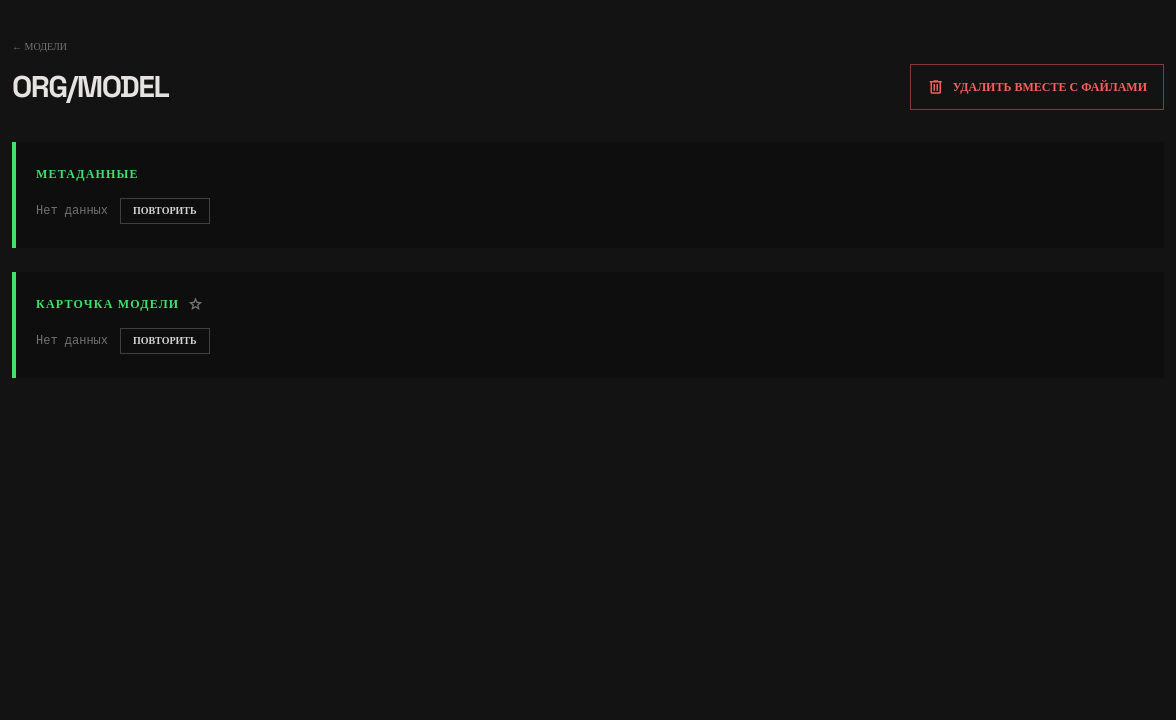
ModelDetailPage — карточка модели сверху › «Повторить» после ошибки перезапрашивает детали и показывает данные
The width and height of the screenshot is (1176, 720).
Click the button with test id "detail-retry" below "Метаданные".
click(165, 211)  # box left=120, top=198, right=210, bottom=224
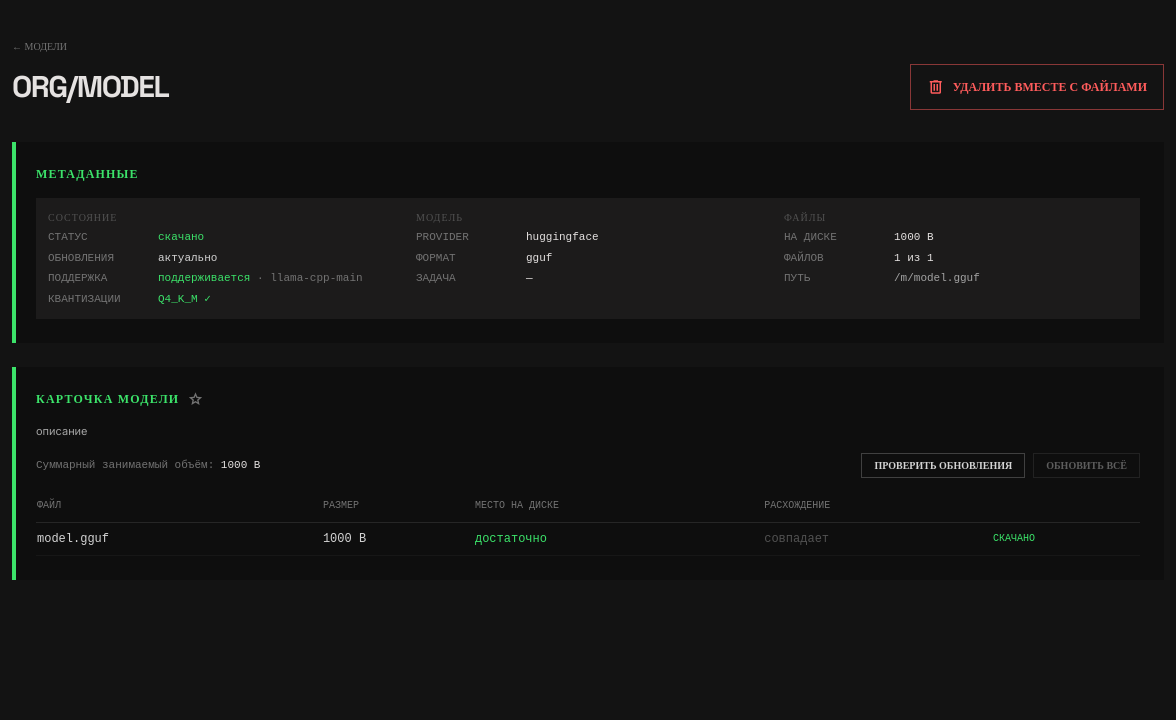
expect the row with test id "file-row-model.gguf" is shown: met, box left=36, top=522, right=1140, bottom=555
